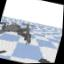drone: (0, 17, 36, 46)
